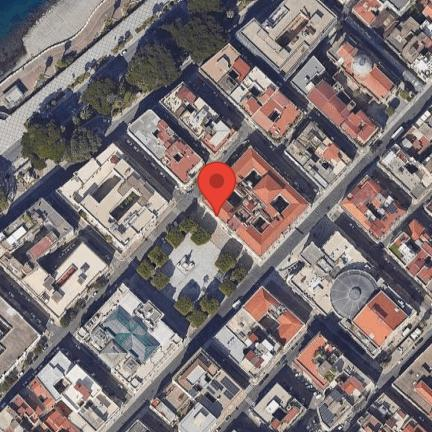area_open: (0, 0, 176, 158), (123, 203, 262, 339), (262, 203, 352, 295), (336, 70, 418, 128)
built: (290, 230, 419, 359), (0, 199, 110, 326), (57, 142, 172, 254), (75, 282, 186, 396), (291, 30, 397, 147), (197, 44, 306, 147), (217, 147, 312, 261), (125, 348, 246, 432), (0, 351, 120, 432), (211, 287, 307, 383), (236, 0, 340, 82), (295, 332, 376, 432), (127, 109, 204, 192), (355, 0, 432, 83), (161, 82, 238, 153), (379, 102, 432, 201), (285, 122, 354, 191), (341, 173, 409, 241), (0, 290, 46, 387), (388, 217, 432, 296), (390, 343, 432, 422), (357, 393, 431, 432), (252, 382, 309, 432)
vegetation_high: (84, 0, 230, 118), (21, 117, 96, 167)
water: (1, 0, 58, 79)
